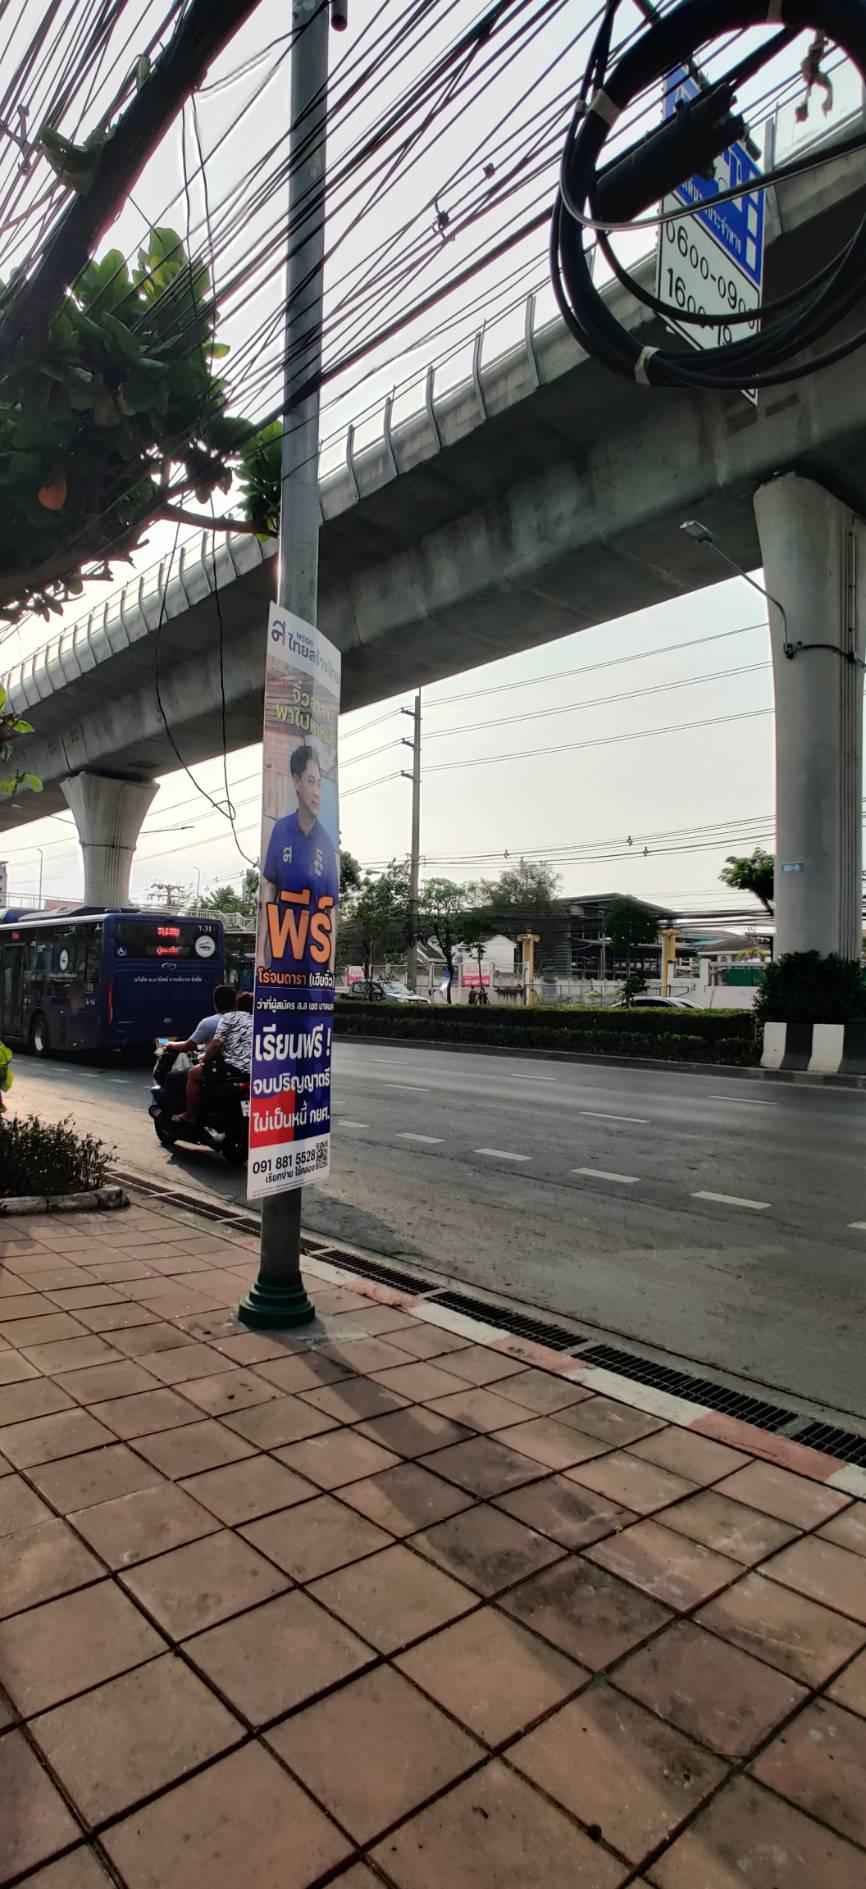Banner: (260, 598, 340, 1196)
